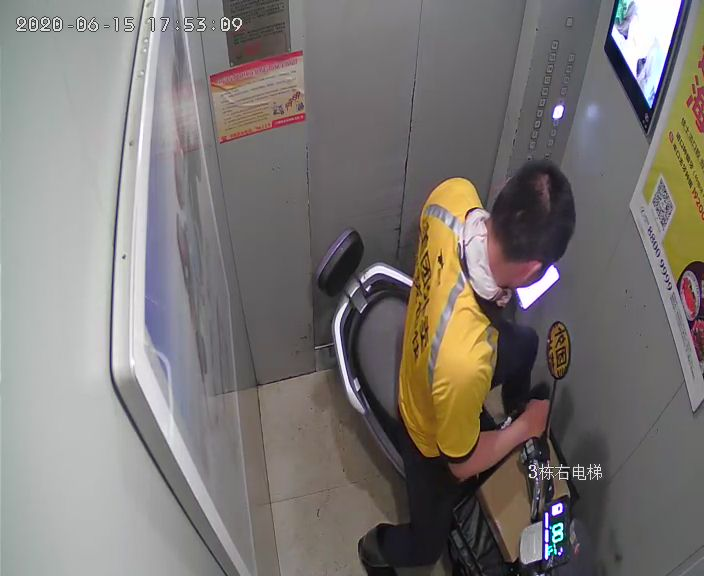Electric-bicycle: (315, 231, 582, 572)
